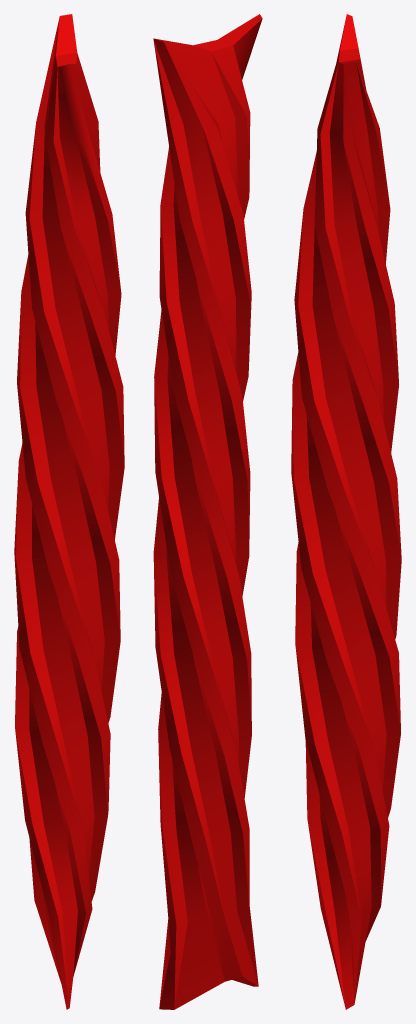
Rendered from Straight Licorice.fbx.
3 views of the same model, side by side, from view 1: azimuth 90°, elevation 25°; view 2: azimuth 210°, elevation 25°; view 3: azimuth 270°, elevation 25° (orthographic). The views are drawn at different scales.
Parts seen in each view (by area): view 1: licorice; view 2: licorice; view 3: licorice.
Boxes of the visible parts, x1,y1,x2,y2 form: licorice: (14, 14, 124, 1009); licorice: (153, 14, 262, 1009); licorice: (291, 14, 401, 1009).
Size of the model in its own units: 0.5148 by 4.56 by 0.4815.
